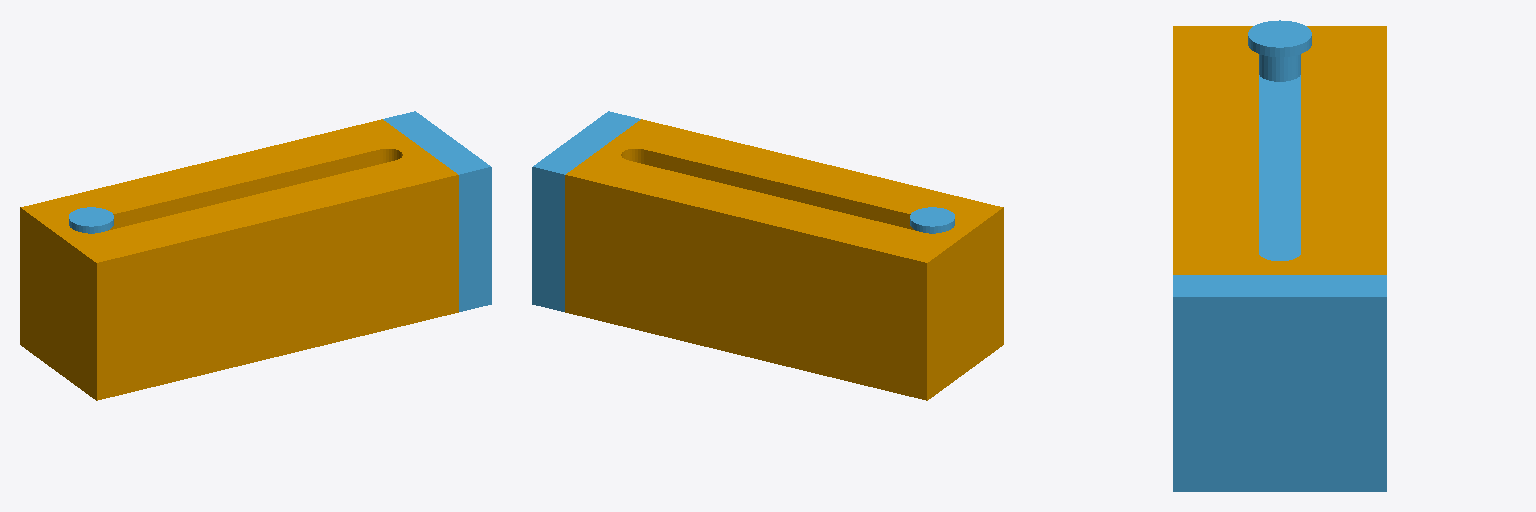
URDF robot description (prismatic_j):
<?xml version="1.0" ?>
<robot name="prismatic_j">

<link name="prismatic_j_base_link">
  <inertial>
    <origin xyz="0.025899332662723817 -1.9256593420022088e-18 -5.776978026006627e-18" rpy="0 0 0"/>
    <mass value="0.07241364495338641"/>
    <inertia ixx="7e-06" iyy="2.4e-05" izz="2.4e-05" ixy="-0.0" iyz="-0.0" ixz="-0.0"/>
  </inertial>
  <visual>
    <origin xyz="0 0 0" rpy="0 0 0"/>
    <geometry>
      <mesh filename="meshes/prismatic_j_base_link.stl" scale="0.001 0.001 0.001"/>
    </geometry>
    <material name="silver"/>
  </visual>
  <collision>
    <origin xyz="0 0 0" rpy="0 0 0"/>
    <geometry>
      <mesh filename="meshes/prismatic_j_base_link.stl" scale="0.001 0.001 0.001"/>
    </geometry>
  </collision>
</link>

<link name="prismatic_j_slider_1">
  <inertial>
    <origin xyz="0.027843325541787315 0.0 -0.01" rpy="0 0 0"/>
    <mass value="0.10875740809788849"/>
    <inertia ixx="5e-06" iyy="3.5e-05" izz="3.5e-05" ixy="0.0" iyz="0.0" ixz="-0.0"/>
  </inertial>
  <visual>
    <origin xyz="-0.005 -0.0 -0.01" rpy="0 0 0"/>
    <geometry>
      <mesh filename="meshes/prismatic_j_slider_1.stl" scale="0.001 0.001 0.001"/>
    </geometry>
    <material name="silver"/>
  </visual>
  <collision>
    <origin xyz="-0.005 -0.0 -0.01" rpy="0 0 0"/>
    <geometry>
      <mesh filename="meshes/prismatic_j_slider_1.stl" scale="0.001 0.001 0.001"/>
    </geometry>
  </collision>
</link>

<link name="prismatic_j_APP_1">
  <inertial>
    <origin xyz="6.661338147750939e-18 0.0 0.0" rpy="0 0 0"/>
    <mass value="3.288200310757315e-05"/>
    <inertia ixx="0.0" iyy="0.0" izz="0.0" ixy="-0.0" iyz="0.0" ixz="0.0"/>
  </inertial>
  
  
</link>

<link name="prismatic_j_APC_1">
  <inertial>
    <origin xyz="1.3877787807814457e-17 -1.6653345369377347e-18 4.440892098500626e-18" rpy="0 0 0"/>
    <mass value="3.288200310757315e-05"/>
    <inertia ixx="0.0" iyy="0.0" izz="0.0" ixy="-0.0" iyz="-0.0" ixz="0.0"/>
  </inertial>
  
  
</link>

<joint name="Slider 1" type="prismatic">
  <origin xyz="0.005 0.0 0.01" rpy="0 0 0"/>
  <parent link="prismatic_j_base_link"/>
  <child link="prismatic_j_slider_1"/>
  <axis xyz="1.0 0.0 0.0"/>
  <limit upper="0.045" lower="0.0" effort="100" velocity="100"/>
</joint>

<joint name="Rigid 2" type="fixed">
  <origin xyz="0.0 0.0 0.0" rpy="0 0 0"/>
  <parent link="prismatic_j_base_link"/>
  <child link="prismatic_j_APP_1"/>
</joint>

<joint name="Rigid 3" type="fixed">
  <origin xyz="0.055 0.0 -0.01" rpy="0 0 0"/>
  <parent link="prismatic_j_slider_1"/>
  <child link="prismatic_j_APC_1"/>
</joint>

</robot>

--- What the picture shows (computed from the rendered views, not written in the file) ---
3 views of the same robot in one strip: view 1: azimuth 30°, elevation 25°; view 2: azimuth 150°, elevation 25°; view 3: azimuth 270°, elevation 25° (orthographic).
Model prismatic_j with 4 links and 3 joints (1 prismatic, 2 fixed), rooted at prismatic_j_base_link, posed all joints at 0.
Links seen in each view (by area): view 1: prismatic_j_base_link, prismatic_j_slider_1; view 2: prismatic_j_base_link, prismatic_j_slider_1; view 3: prismatic_j_slider_1, prismatic_j_base_link.
Boxes of the visible links, left/top/right/bottom form: prismatic_j_base_link: left=20, top=119, right=458, bottom=400; prismatic_j_slider_1: left=69, top=111, right=491, bottom=311; prismatic_j_base_link: left=565, top=119, right=1003, bottom=400; prismatic_j_slider_1: left=532, top=111, right=954, bottom=311; prismatic_j_slider_1: left=1173, top=20, right=1386, bottom=491; prismatic_j_base_link: left=1173, top=26, right=1386, bottom=274.
Size in the robot's own frame: 0.06 by 0.02 by 0.023 metres.
Meshes: 2 distinct files referenced, 2 mesh visuals loaded (2 binary STL).